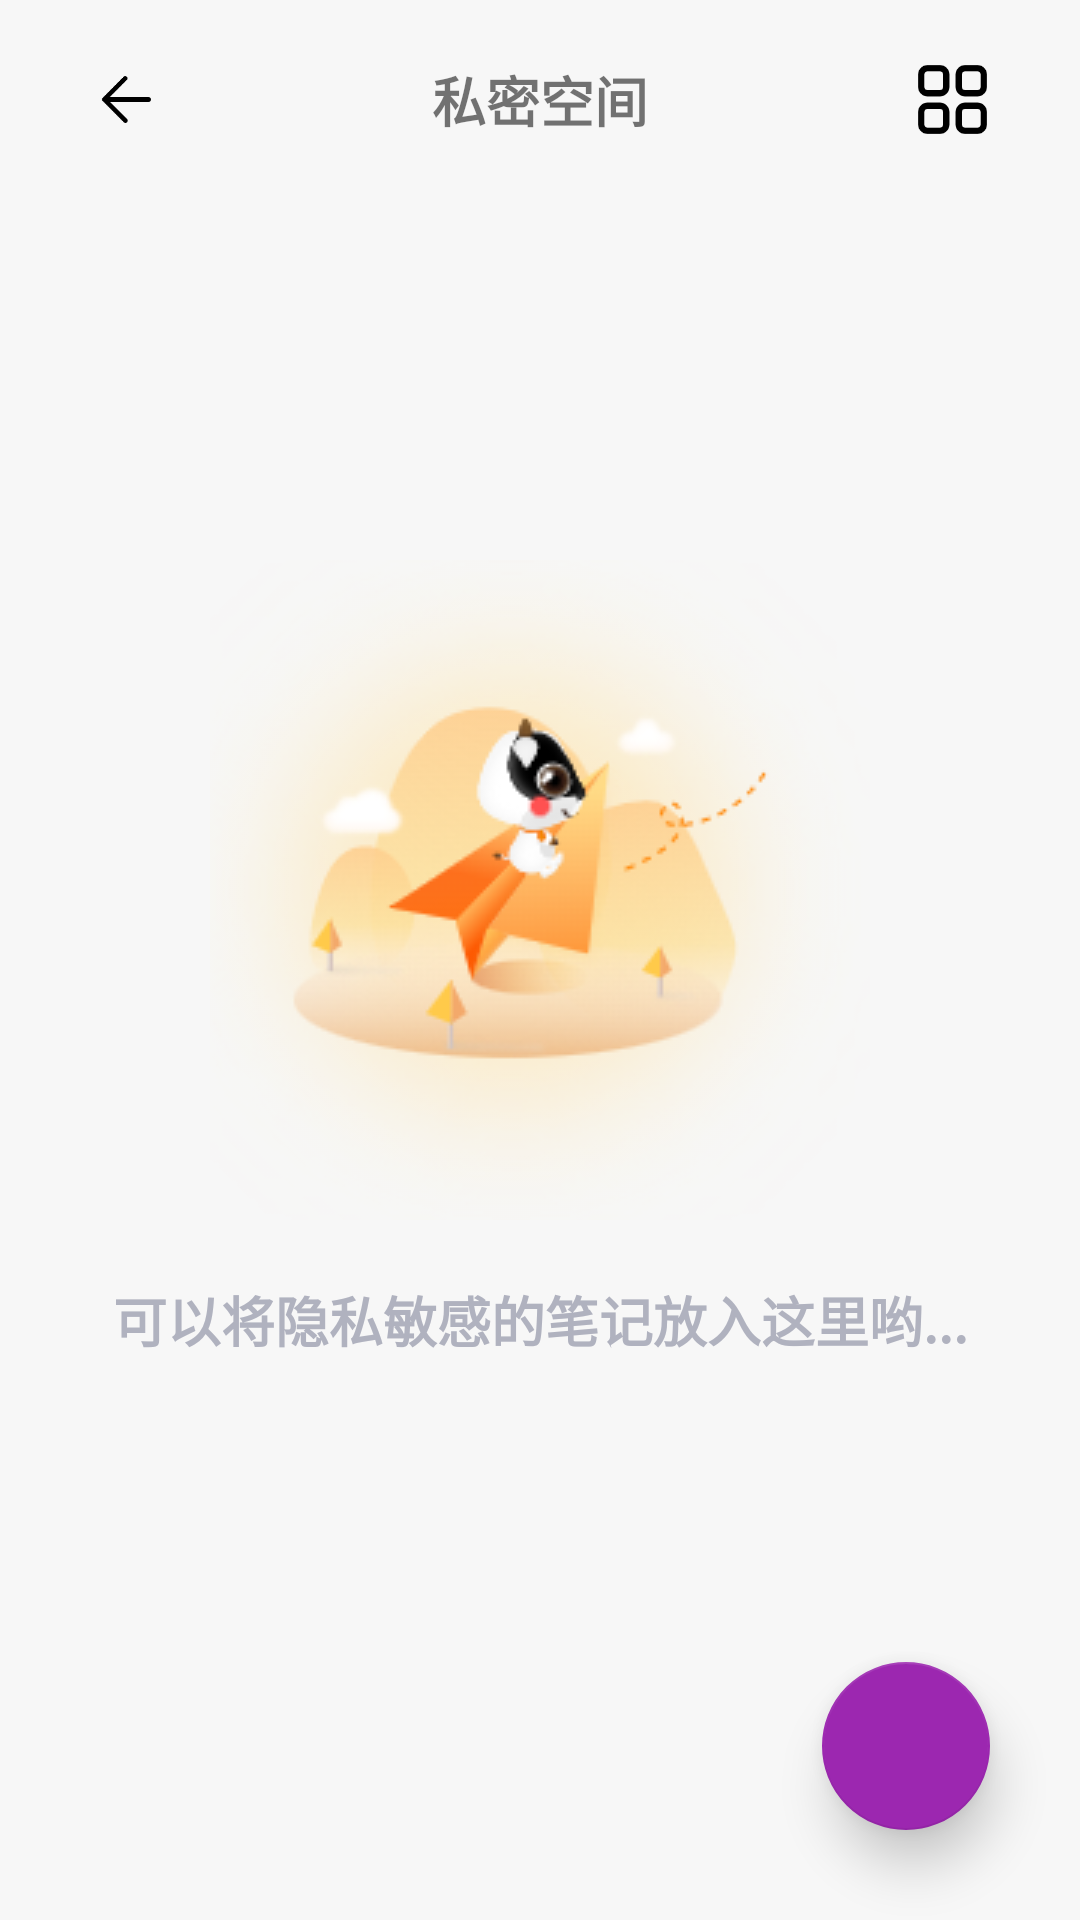

Screen size 1080px x 1920px. Icon name, then its center in pixels as (x=x, y=y):
back android: (x=126, y=99)
grid: (x=952, y=99)
